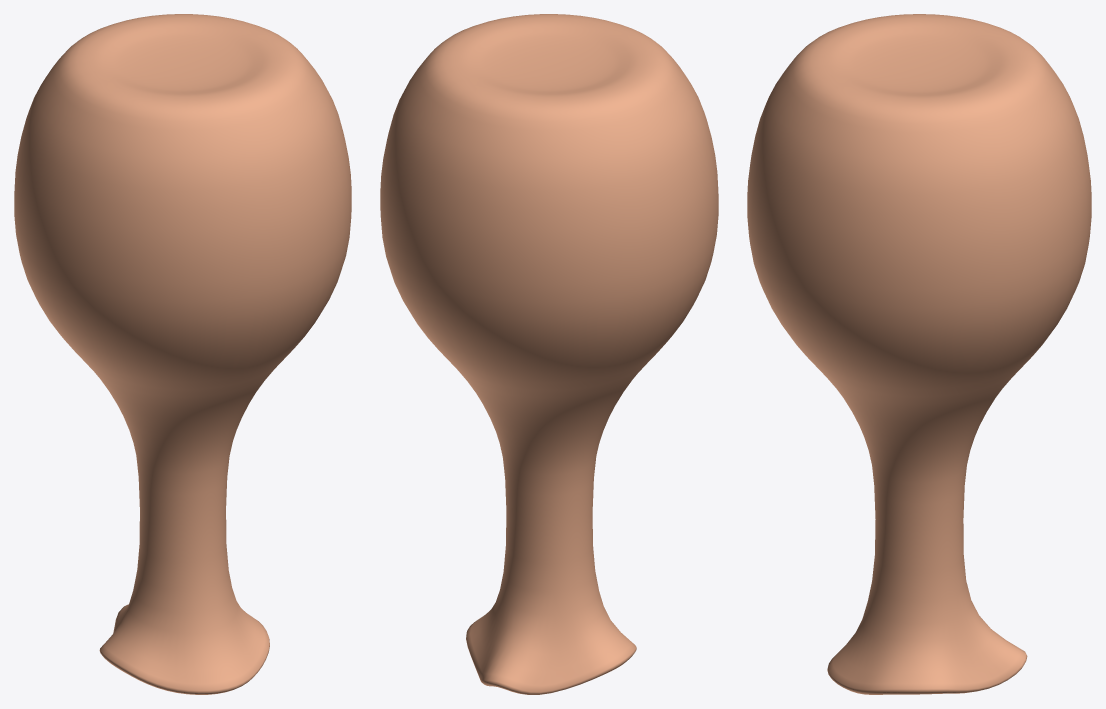
Rendered from smooth_vase.gltf.
The picture shows the model from 3 angles, left to right: view 1: azimuth 30°, elevation 25°; view 2: azimuth 150°, elevation 25°; view 3: azimuth 270°, elevation 25°; orthographic projection. The views are drawn at different scales.
Parts seen in each view (by area): view 1: ceramic_vase_01_Cylinder.009; view 2: ceramic_vase_01_Cylinder.009; view 3: ceramic_vase_01_Cylinder.009.
Part boxes in pixels (x1=…): ceramic_vase_01_Cylinder.009: x1=14, y1=14, x2=351, y2=694; ceramic_vase_01_Cylinder.009: x1=380, y1=14, x2=718, y2=694; ceramic_vase_01_Cylinder.009: x1=747, y1=14, x2=1091, y2=694.
Bounding box in the file's own units: 0.2036 × 0.4003 × 0.2036.
